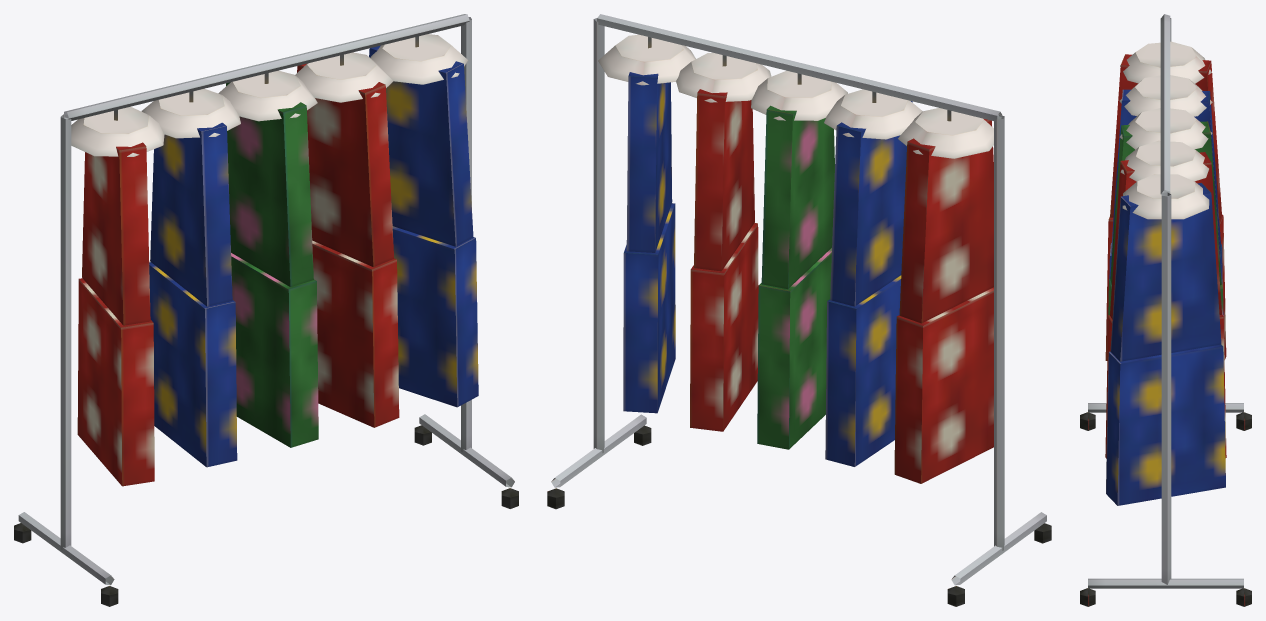
File: costume_rack.obj
The picture shows the model from 3 angles, left to right: view 1: azimuth 30°, elevation 25°; view 2: azimuth 150°, elevation 25°; view 3: azimuth 270°, elevation 25°; orthographic projection. The views are drawn at different scales.
Parts seen in each view (by area): view 1: costume_rack; view 2: costume_rack; view 3: costume_rack.
Boxes of the visible parts, left/top/right/bottom form: costume_rack: left=14, top=14, right=518, bottom=606; costume_rack: left=547, top=14, right=1051, bottom=606; costume_rack: left=1080, top=14, right=1251, bottom=606.
Bounding box in the file's own units: 1.67 × 1.77 × 0.66.
1 material, 1 textured.
